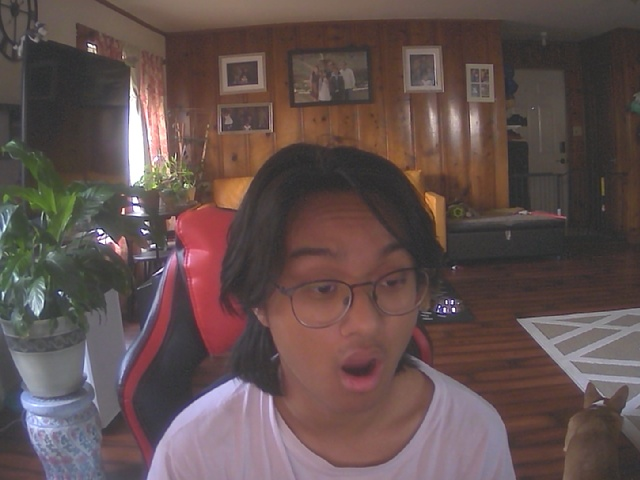fear: (247, 156, 440, 419)
